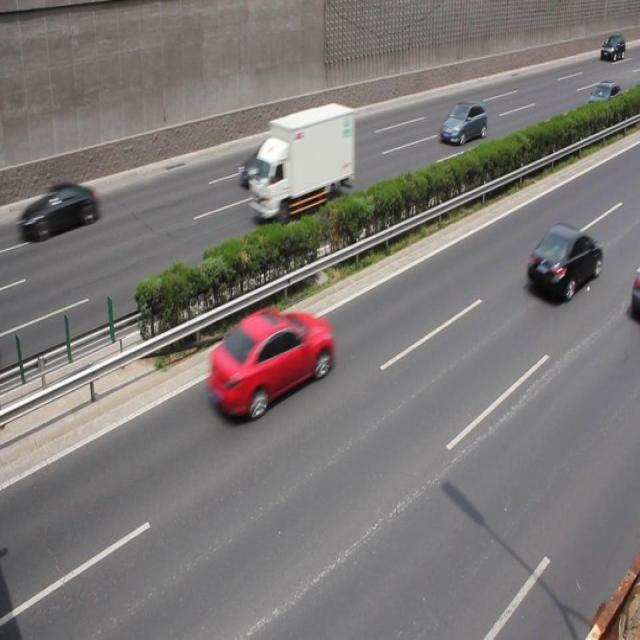bus: (248, 102, 356, 224)
car: (207, 304, 331, 418), (526, 225, 603, 301), (18, 184, 98, 239), (238, 138, 302, 190), (439, 103, 486, 145), (587, 80, 622, 116), (628, 268, 640, 322)
